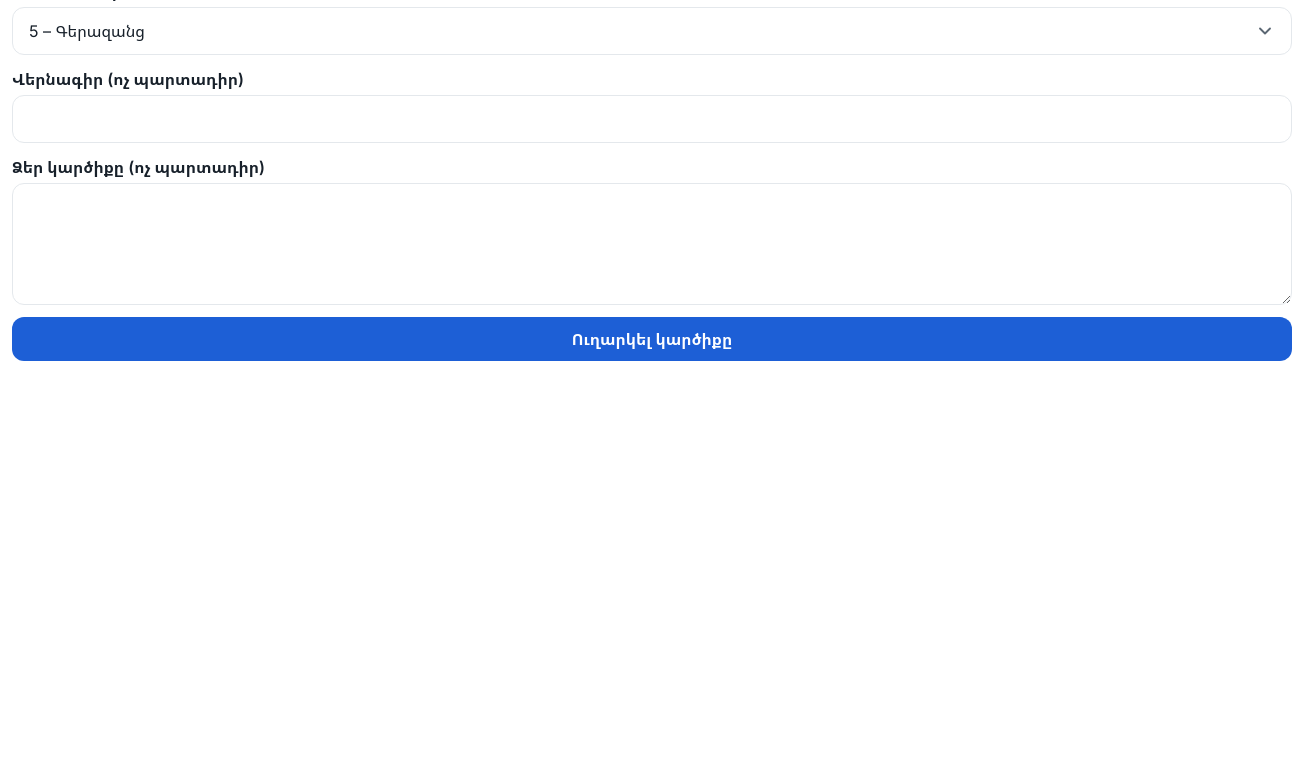
Test case: ReviewForm (apps/web/src/modules/reviews) › submits the selected rating, title, and content for the given booking
Type "Great stay" into the field labelled "Վերնագիր (ոչ պարտադիր)".
click(652, 119); type("Great stay")  # box [29,96,1275,142]
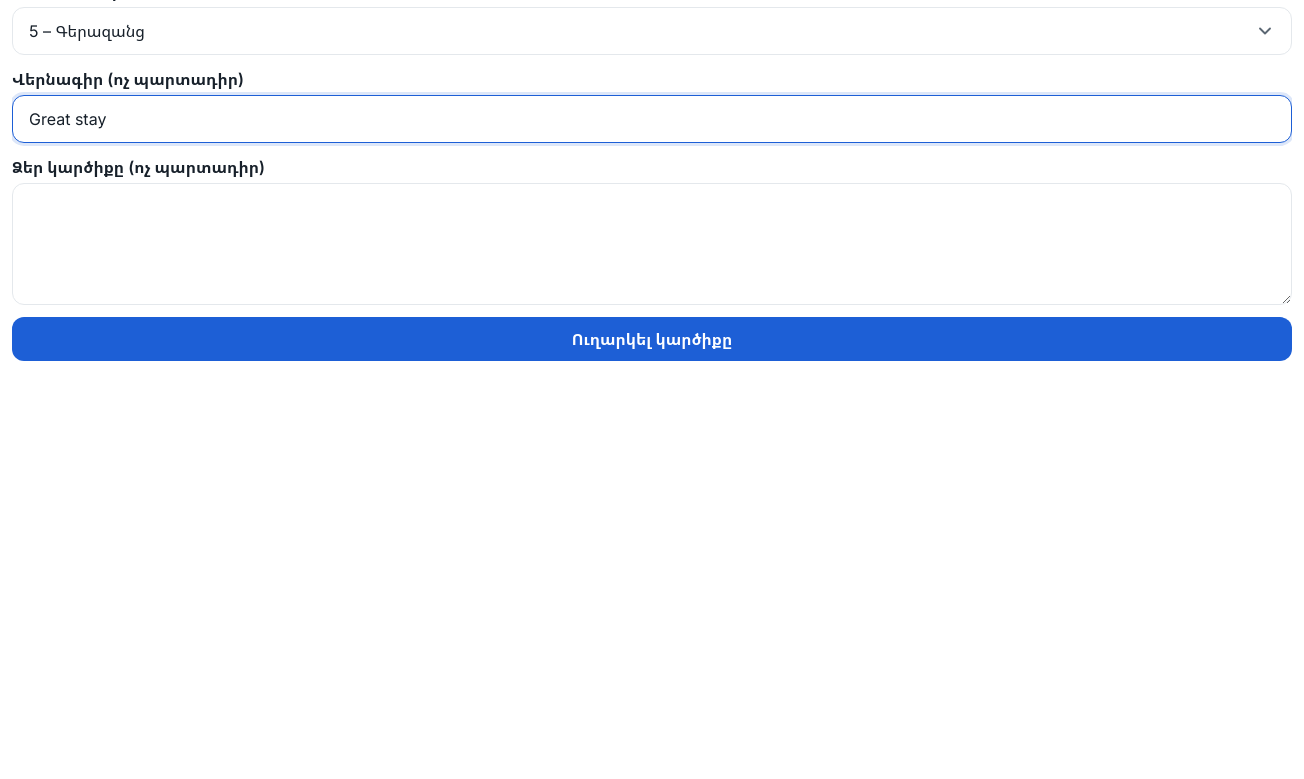
Type "Loved it here." into the text box labelled "Ձեր կարծիքը (ոչ պարտադիր)".
click(652, 244); type("Loved it here.")  # box [12,183,1292,305]
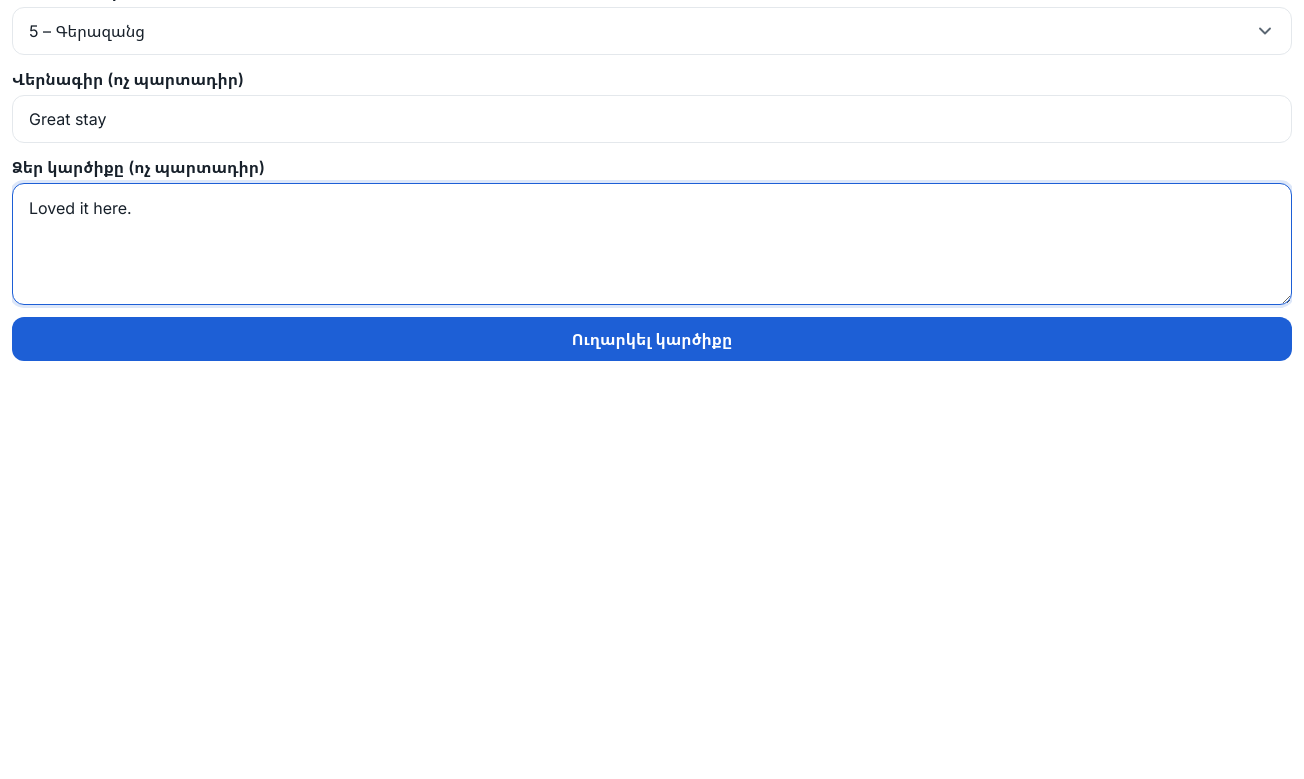
Click the button "Ուղարկել կարծիքը".
click(652, 339)  # box [12,317,1292,361]
(page scrolled)
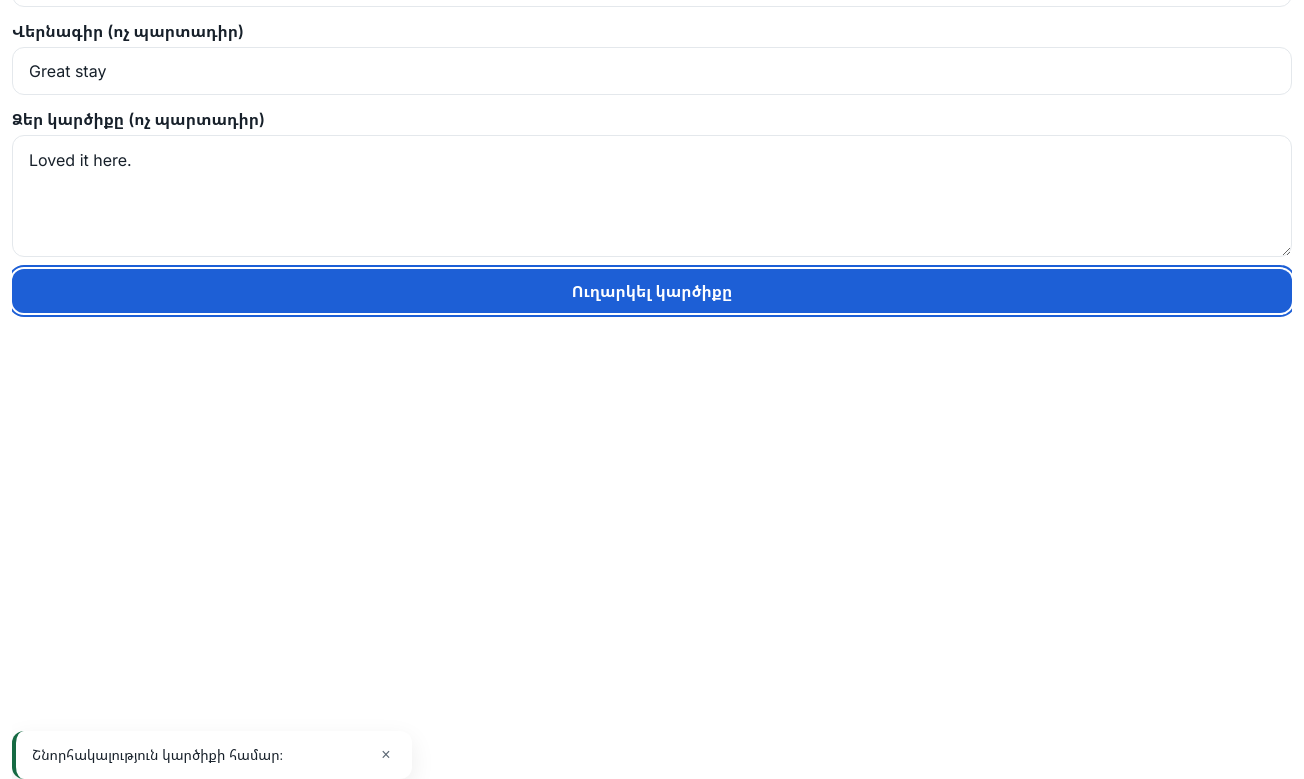
Now the text "Շնորհակալություն կարծիքի համար։" is shown, box [32,746,283,763]
